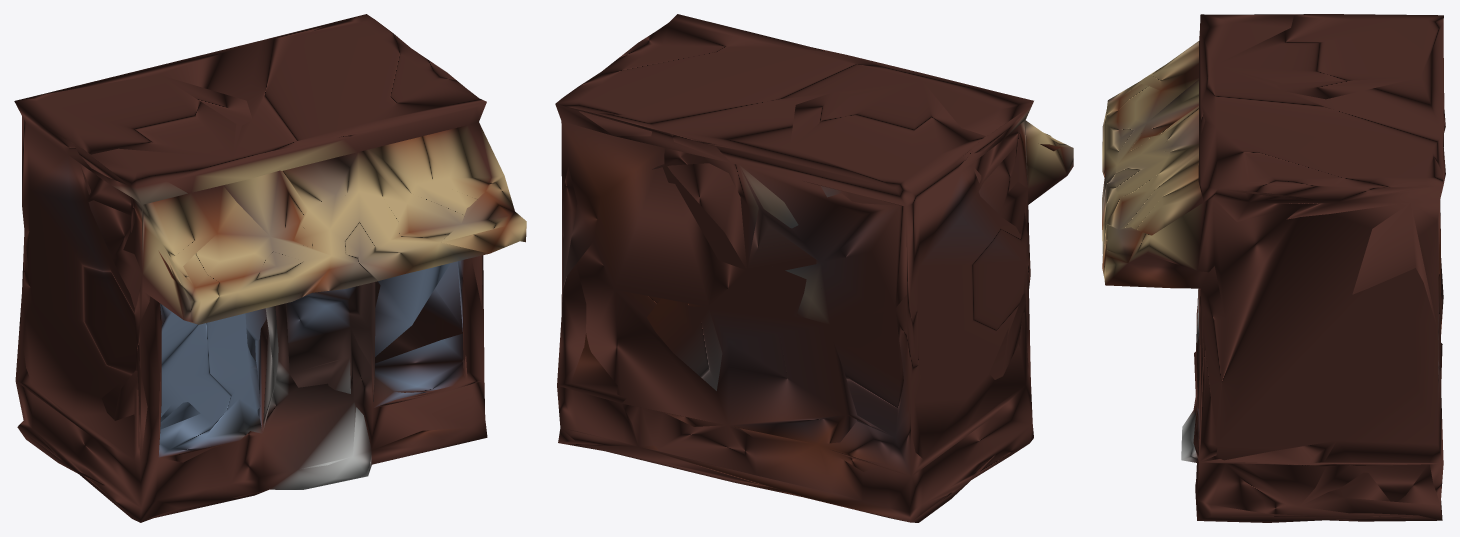
Rendered from gen3d-storefront-lod0.glb.
The picture shows the model from 3 angles, left to right: view 1: azimuth 30°, elevation 25°; view 2: azimuth 150°, elevation 25°; view 3: azimuth 270°, elevation 25°; orthographic projection.
Parts seen in each view (by area): view 1: part_0; view 2: part_0; view 3: part_0.
Boxes of the visible parts, x1,y1,x2,y2 form: part_0: (14, 14, 526, 522); part_0: (555, 14, 1073, 522); part_0: (1102, 14, 1445, 522).
Bounding box in the file's own units: 1.1 × 1 × 0.9191.
